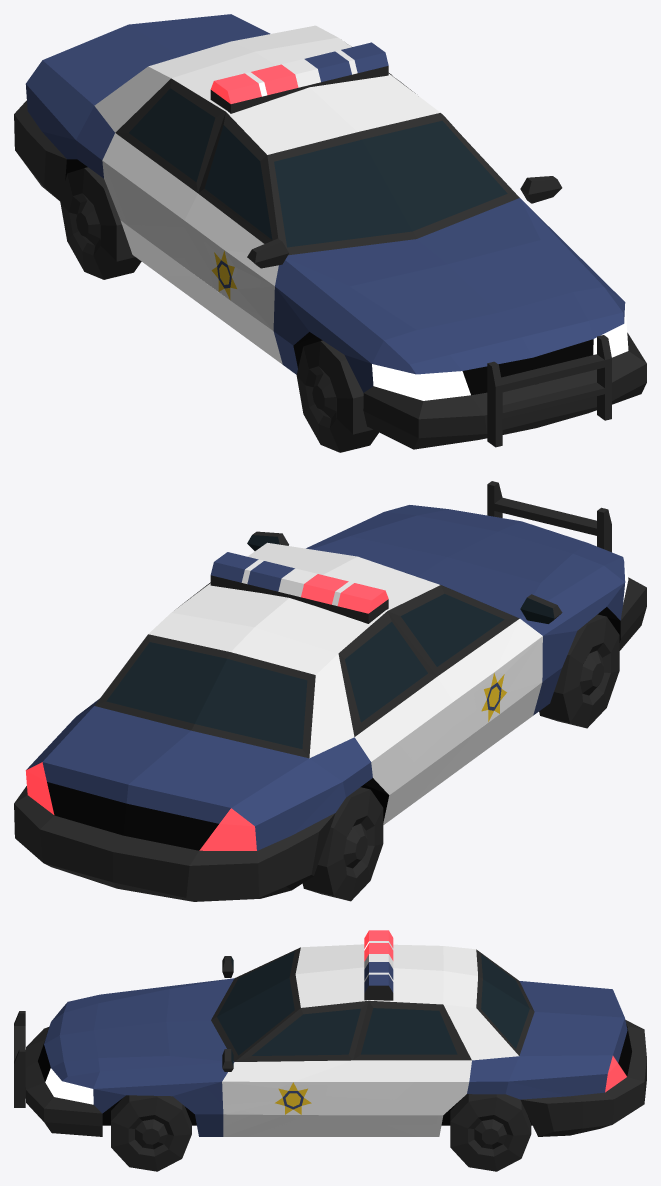
The model's file is car-police.glb.
3 renders of one model, top to bottom at view 1: azimuth 30°, elevation 25°; view 2: azimuth 150°, elevation 25°; view 3: azimuth 270°, elevation 25°, orthographic. The views are drawn at different scales.
Visible parts, largest first — view 1: car-police-base, car-police-wheel_FR, car-police-wheel_BR; view 2: car-police-base, car-police-wheel_BR, car-police-wheel_FR; view 3: car-police-base, car-police-wheel_BL, car-police-wheel_FL.
Part boxes in pixels (bbox=[...]): car-police-base: bbox=[14, 14, 646, 449]; car-police-wheel_FR: bbox=[296, 340, 378, 452]; car-police-wheel_BR: bbox=[60, 167, 141, 279]; car-police-base: bbox=[14, 481, 646, 901]; car-police-wheel_BR: bbox=[302, 787, 383, 901]; car-police-wheel_FR: bbox=[539, 614, 619, 728]; car-police-base: bbox=[14, 930, 646, 1136]; car-police-wheel_BL: bbox=[450, 1094, 531, 1171]; car-police-wheel_FL: bbox=[111, 1095, 191, 1171].
Bounding box in the file's own units: 2.19 × 1.59 × 5.44.
1 material, 1 textured.
